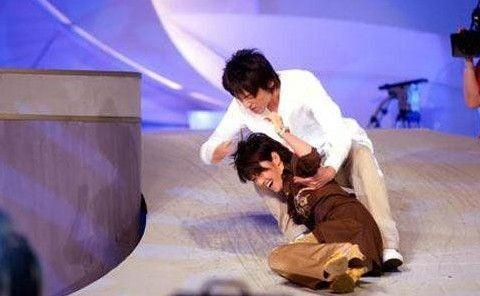Fall-Detected: (228, 125, 398, 288)
